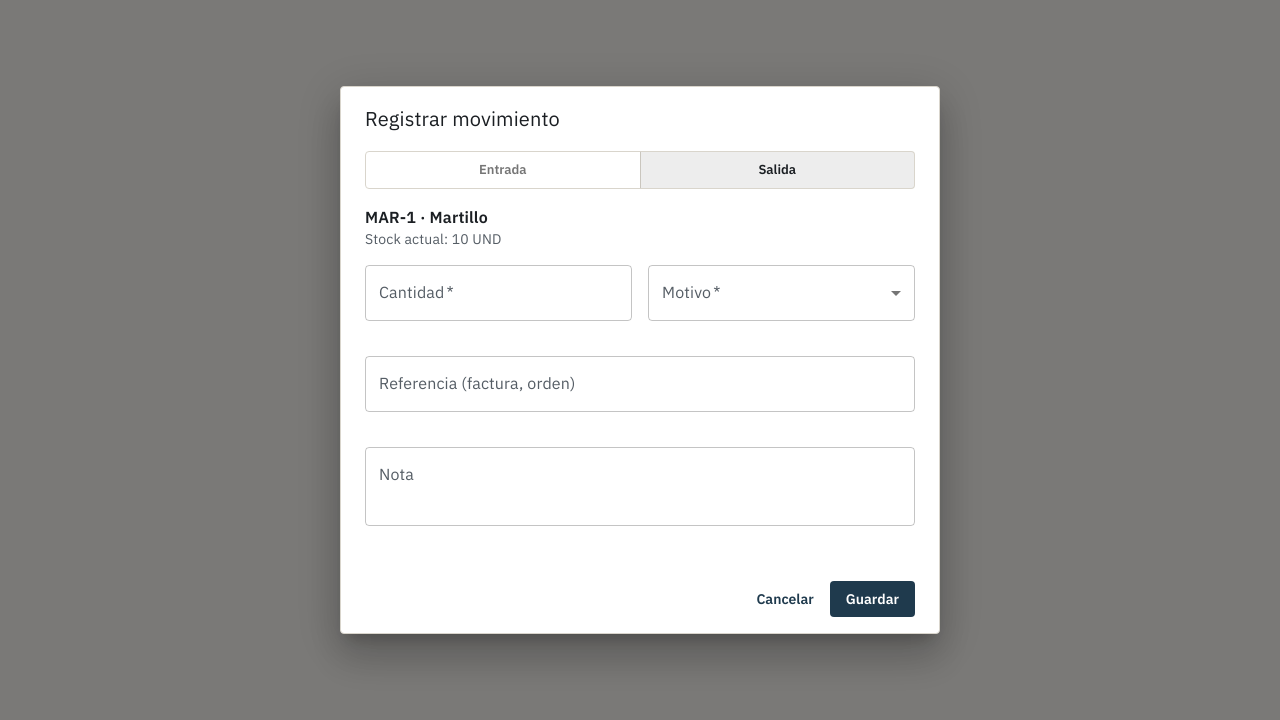
MovimientoDialog › muestra el error de la API (stock insuficiente) sin cerrar el diálogo
Type "11" into the field labelled "Cantidad *" at (498, 293), box [365,265,632,321]
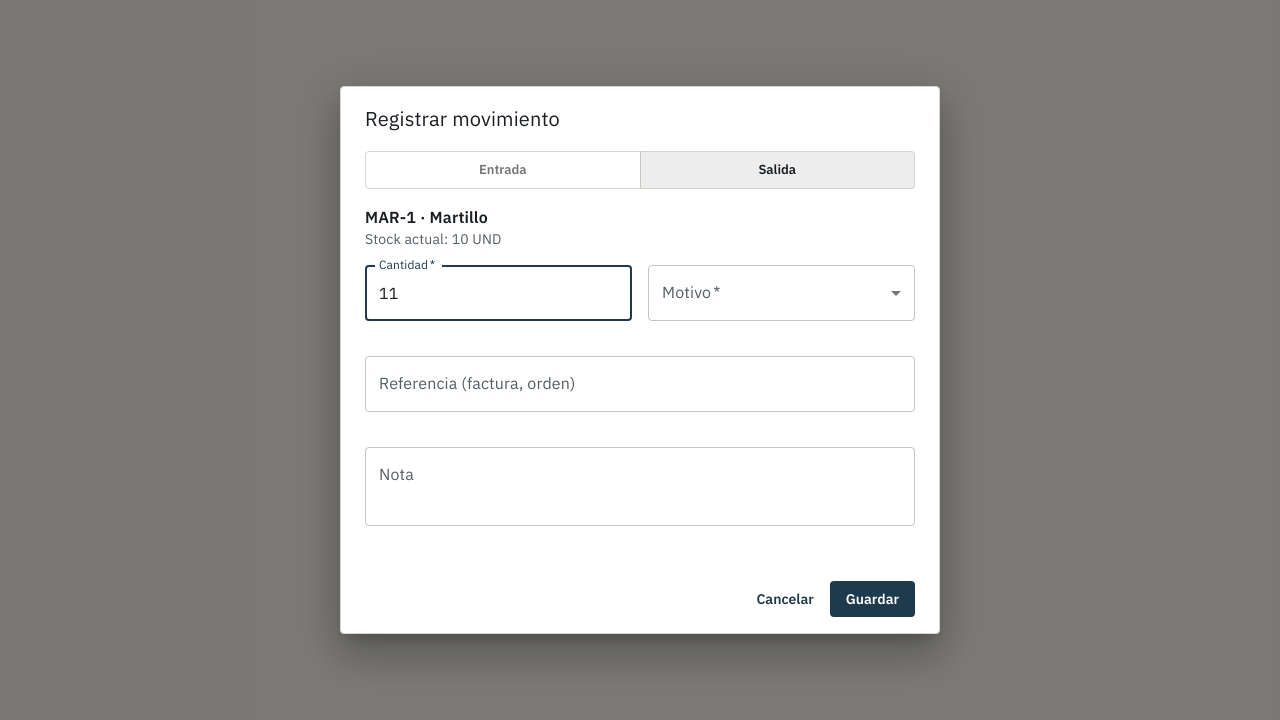
Click the dropdown named "Motivo" at (782, 293), box [648,265,915,321]
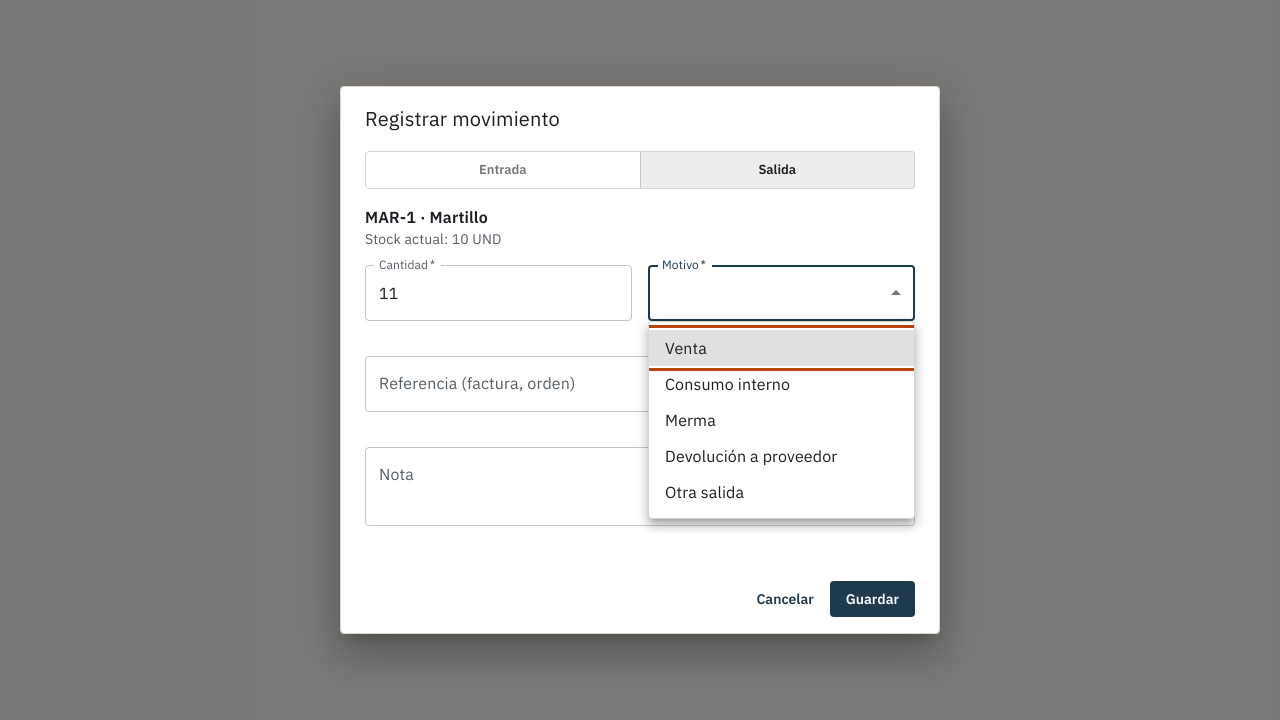
Click the option "Venta" at (686, 348), box [649,330,914,366]
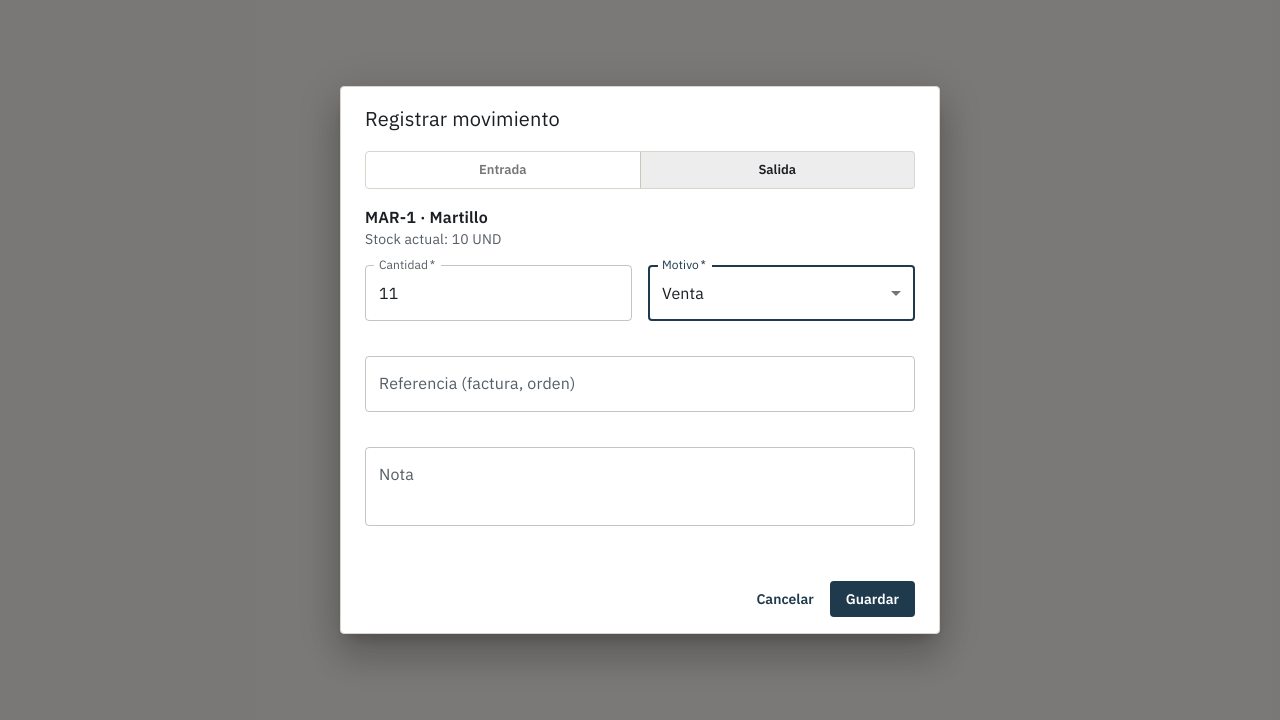
Click the button "Guardar" at (872, 599), box [830,581,915,618]
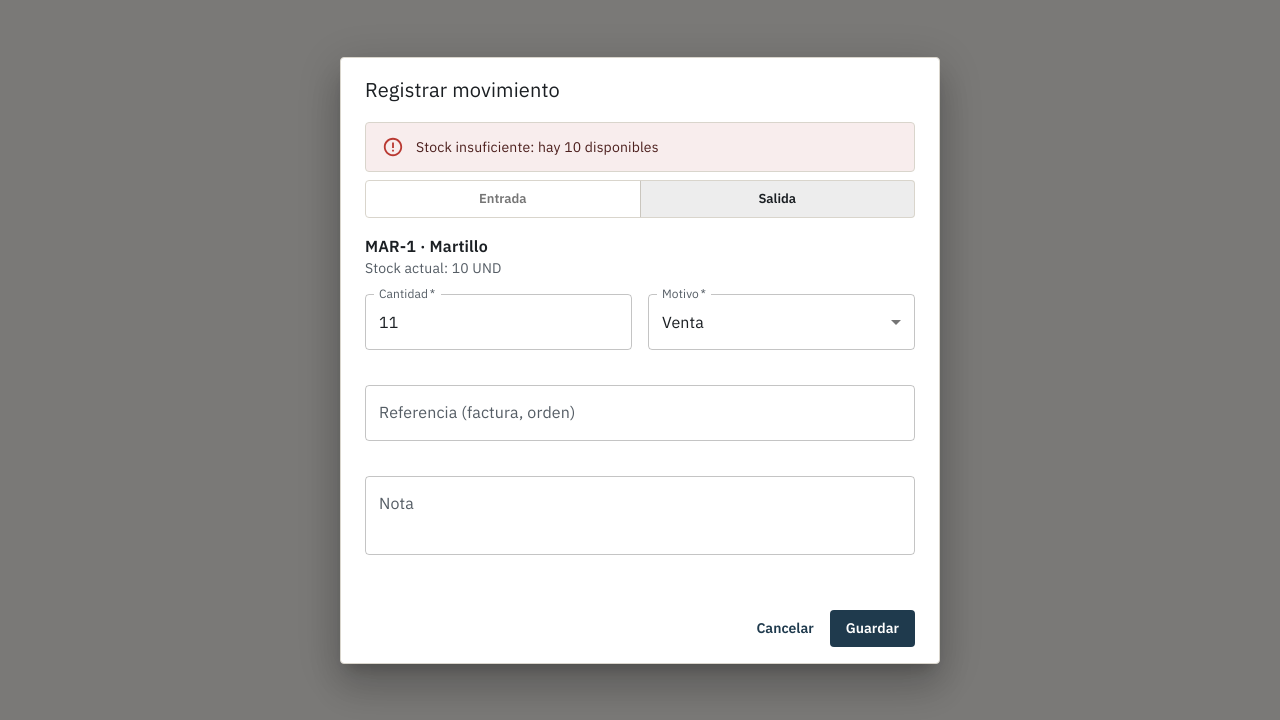
Expected: the dialog "Registrar movimiento" is shown, [340,56,940,664]
Expected: the text "Stock insuficiente: hay 10 disponibles" is shown, [416,138,659,156]
